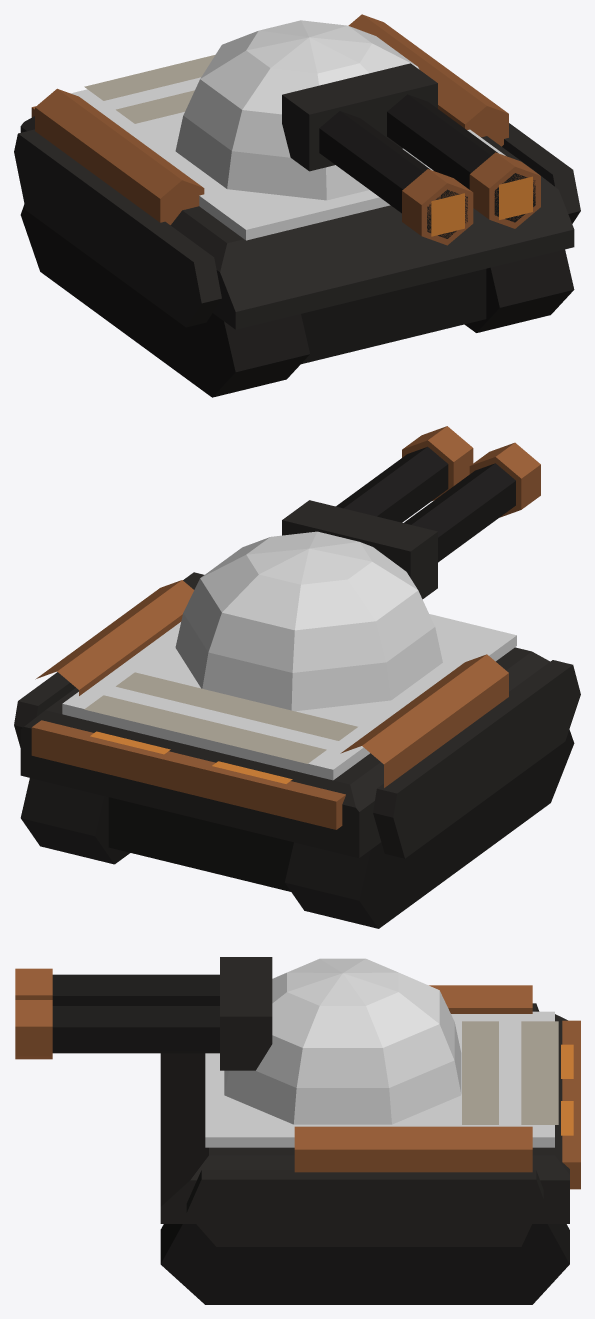
File: lnd_t2_tank.3e4450c5.raw.glb
3 renders of one model, top to bottom at view 1: azimuth 30°, elevation 25°; view 2: azimuth 150°, elevation 25°; view 3: azimuth 270°, elevation 25°, orthographic. The views are drawn at different scales.
Parts seen in each view (by area): view 1: lod0; view 2: lod0; view 3: lod0.
Part boxes in pixels (x1,y1,x2,y2): lod0: (14, 14, 580, 397); lod0: (14, 426, 580, 928); lod0: (15, 957, 580, 1304).
Size of what is drawn, in the model's own units: 1.46 by 0.976 by 1.98.
